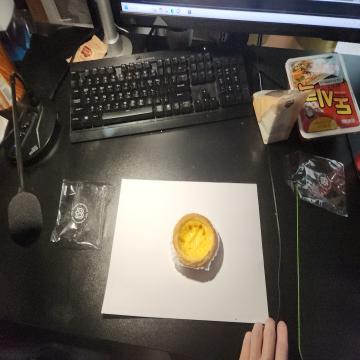EggTart: (172, 212, 216, 266)
